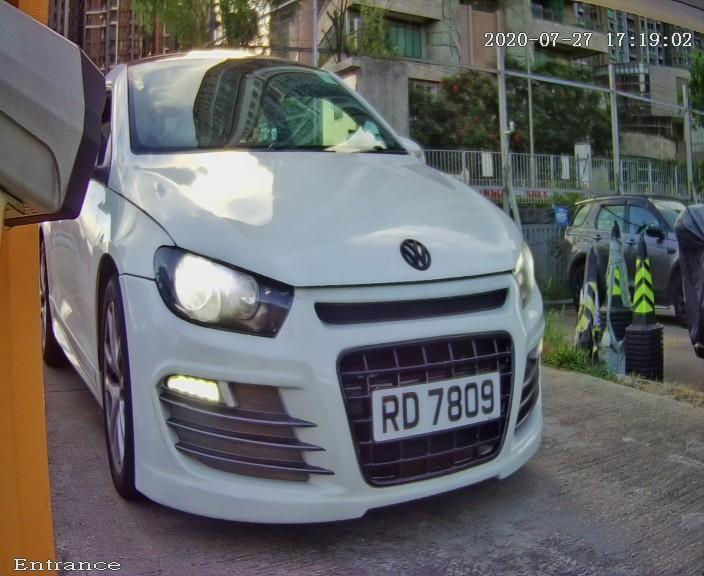privatecar: (41, 34, 595, 559)
